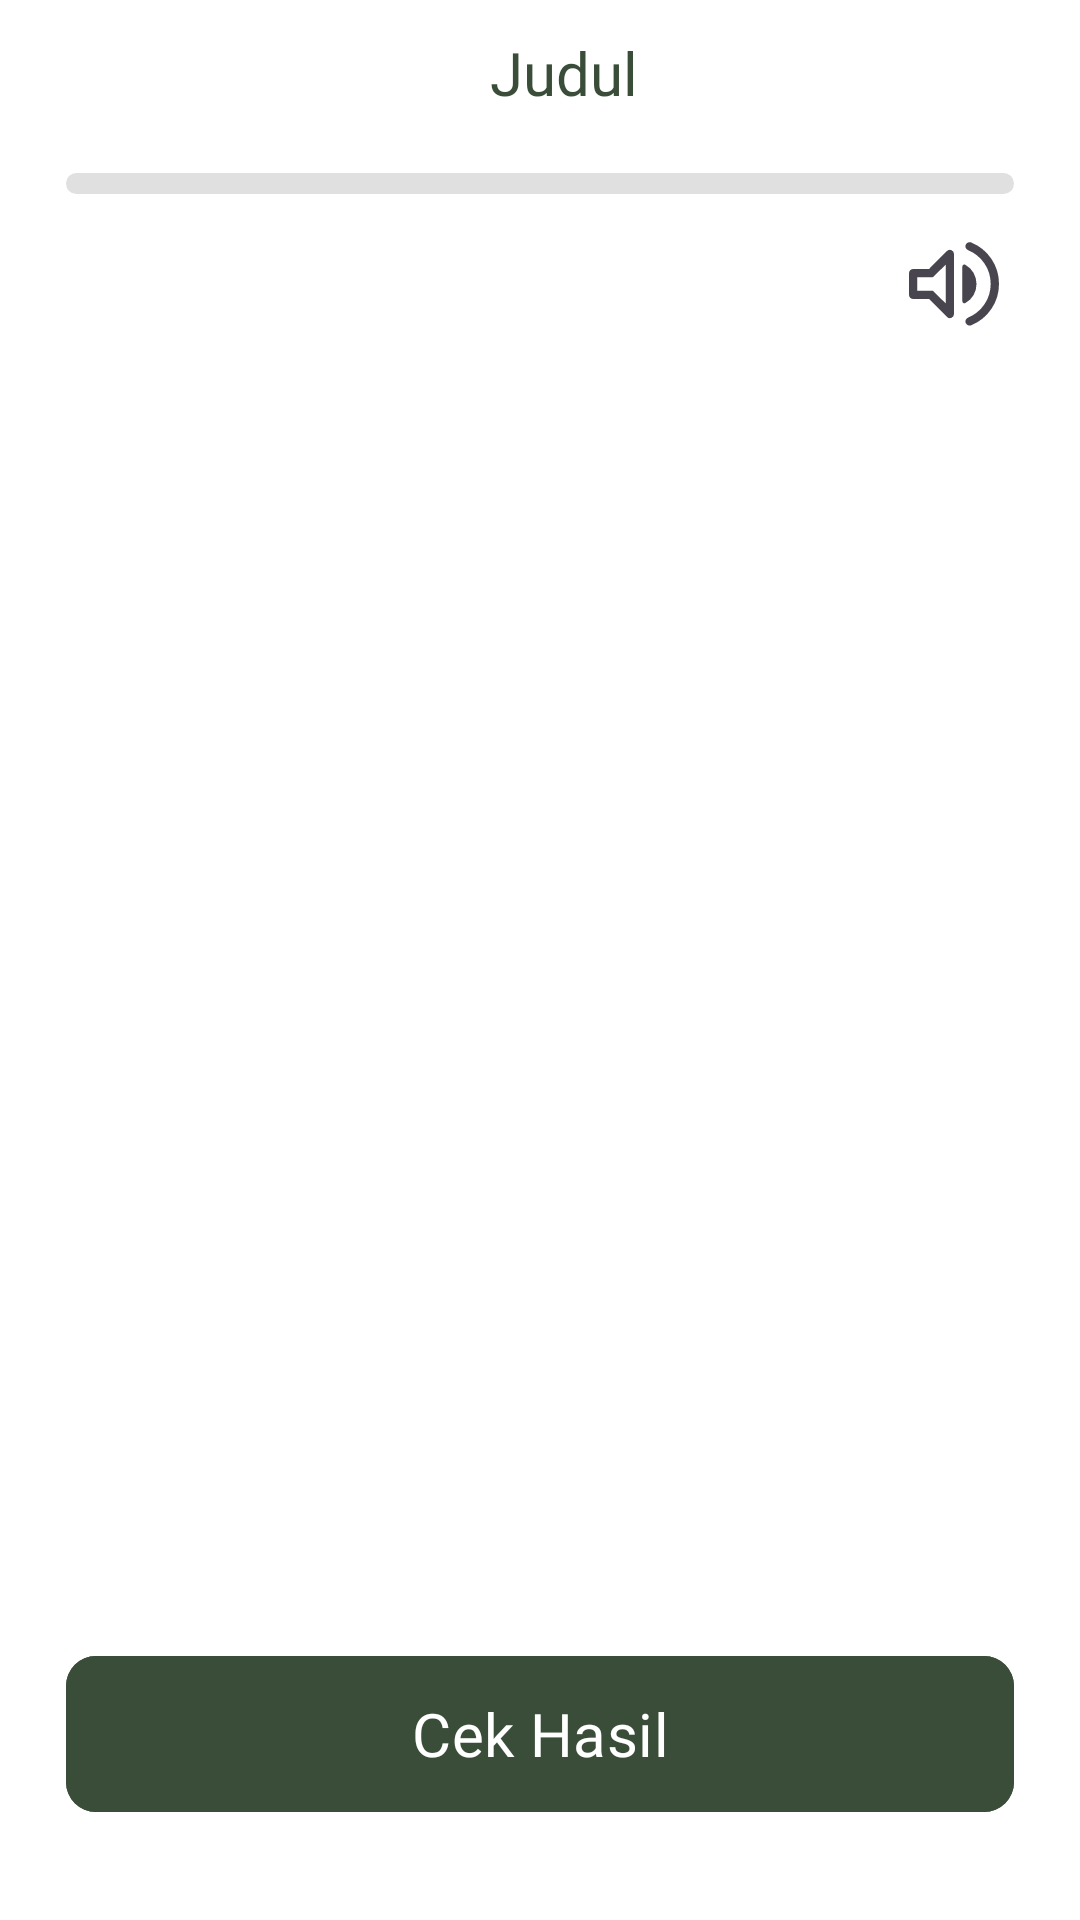

Icons on this 1080px×1920px Android screen, each with the point to tap as [x,y]:
volume: [954,284]
